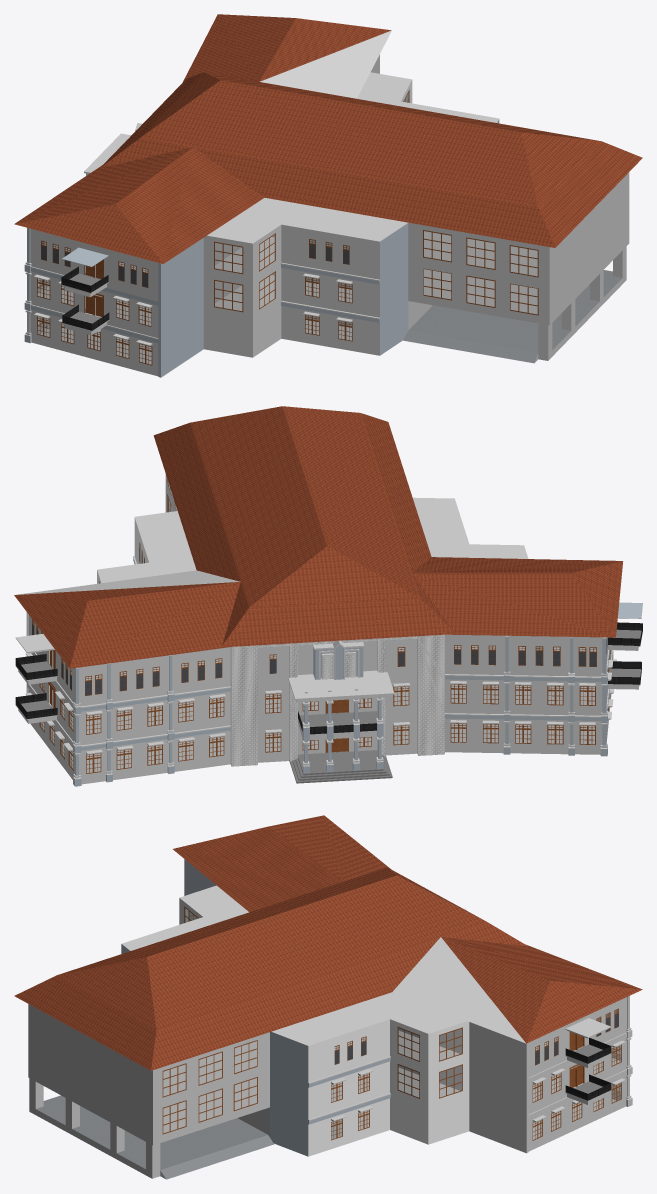
File: dprd.glb
The picture shows the model from 3 angles, top to bottom: view 1: azimuth 30°, elevation 25°; view 2: azimuth 150°, elevation 25°; view 3: azimuth 270°, elevation 25°; orthographic projection. The views are drawn at different scales.
Parts seen in each view (by area): view 1: Object_8, Object_15, Object_17, Object_18, Object_3, Object_19, Object_20, Object_14, Object_12; view 2: Object_8, Object_15, Object_2, Object_17, Object_18, Object_19, Object_9, Object_20, Object_12, Object_14, Object_16; view 3: Object_8, Object_15, Object_4, Object_18, Object_3, Object_17, Object_20, Object_19, Object_12, Object_14.
Boxes of the visible parts, x1=… form: Object_8: x1=14, y1=14, x2=642, y2=263; Object_15: x1=25, y1=30, x2=629, y2=376; Object_17: x1=24, y1=119, x2=499, y2=377; Object_18: x1=37, y1=91, x2=537, y2=364; Object_3: x1=403, y1=270, x2=621, y2=363; Object_19: x1=37, y1=89, x2=495, y2=365; Object_20: x1=37, y1=230, x2=538, y2=358; Object_14: x1=41, y1=242, x2=349, y2=287; Object_12: x1=61, y1=266, x2=109, y2=330; Object_8: x1=14, y1=406, x2=623, y2=668; Object_15: x1=15, y1=474, x2=642, y2=785; Object_2: x1=230, y1=634, x2=444, y2=766; Object_17: x1=75, y1=559, x2=642, y2=786; Object_18: x1=32, y1=480, x2=610, y2=772; Object_19: x1=39, y1=479, x2=610, y2=765; Object_9: x1=21, y1=629, x2=641, y2=783; Object_20: x1=32, y1=494, x2=610, y2=773; Object_12: x1=15, y1=622, x2=642, y2=718; Object_14: x1=32, y1=547, x2=607, y2=695; Object_16: x1=25, y1=660, x2=614, y2=754; Object_8: x1=14, y1=815, x2=642, y2=1070; Object_15: x1=28, y1=885, x2=632, y2=1178; Object_4: x1=308, y1=1019, x2=469, y2=1156; Object_18: x1=163, y1=908, x2=621, y2=1139; Object_3: x1=36, y1=1095, x2=274, y2=1179; Object_17: x1=121, y1=859, x2=390, y2=1156; Object_20: x1=162, y1=906, x2=621, y2=1140; Object_19: x1=162, y1=915, x2=621, y2=1131; Object_12: x1=565, y1=1038, x2=611, y2=1100; Object_14: x1=334, y1=1013, x2=618, y2=1064.
Bounding box in the file's own units: 5938 × 1851 × 6175.
Materials: 17 (10 with a texture image).
